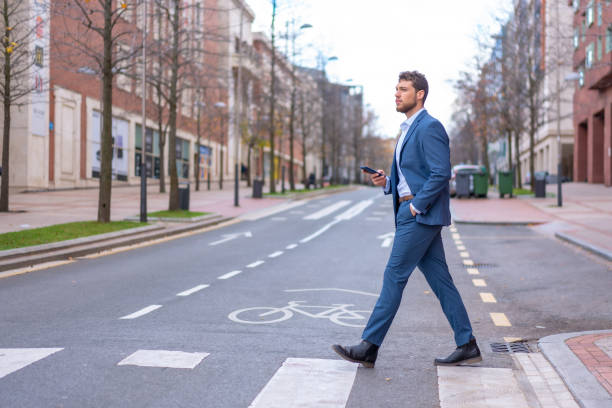yaya: (350, 53, 483, 365)
